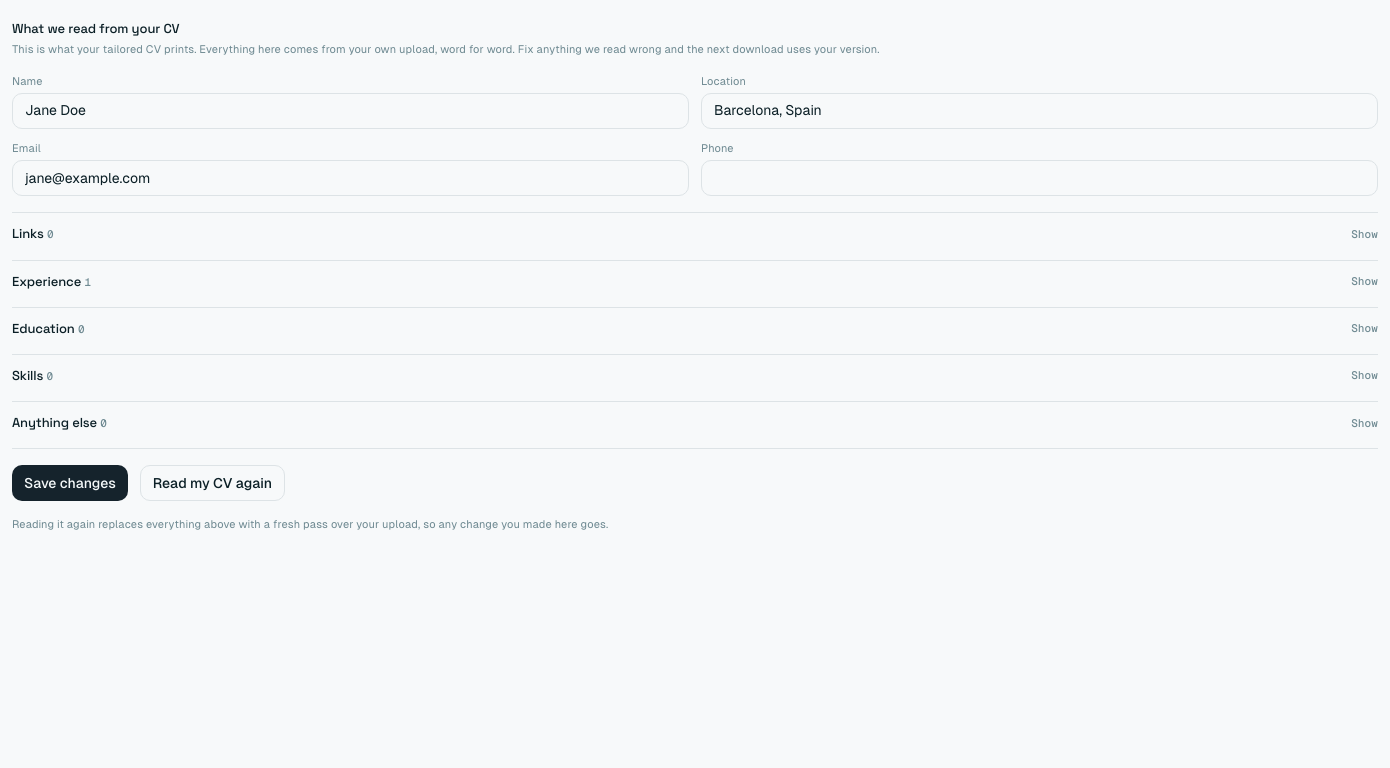
Test case: CvEditor › an edited field is what Save writes
The width and height of the screenshot is (1390, 768).
Replace the text in the field showing "Jane Doe" with "Jane R. Doe" at [350, 111], box [12, 93, 689, 129]
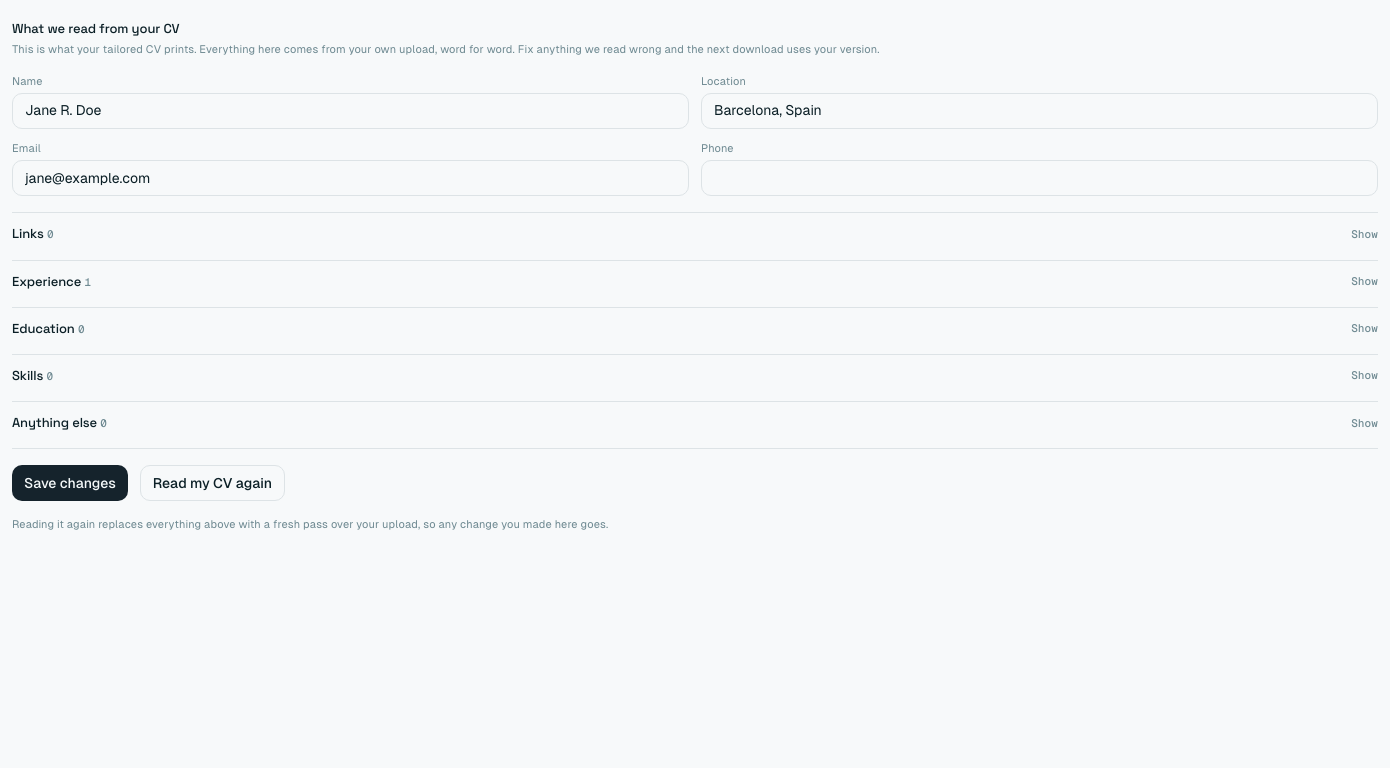
Click the button "Save changes".
click(70, 483)  # box [12, 465, 128, 501]
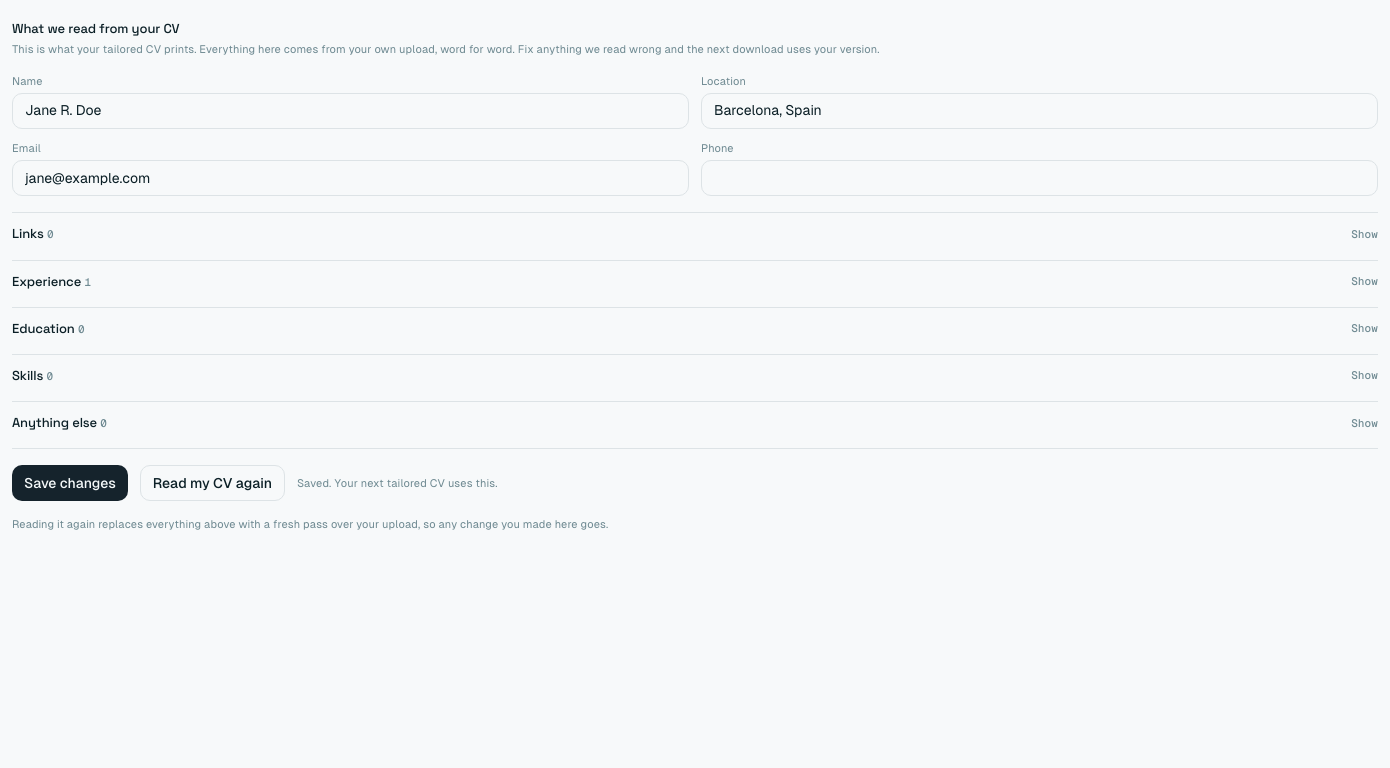
Expected: the text "Saved. Your next tailored CV uses this." is shown, [297, 476, 498, 491]
